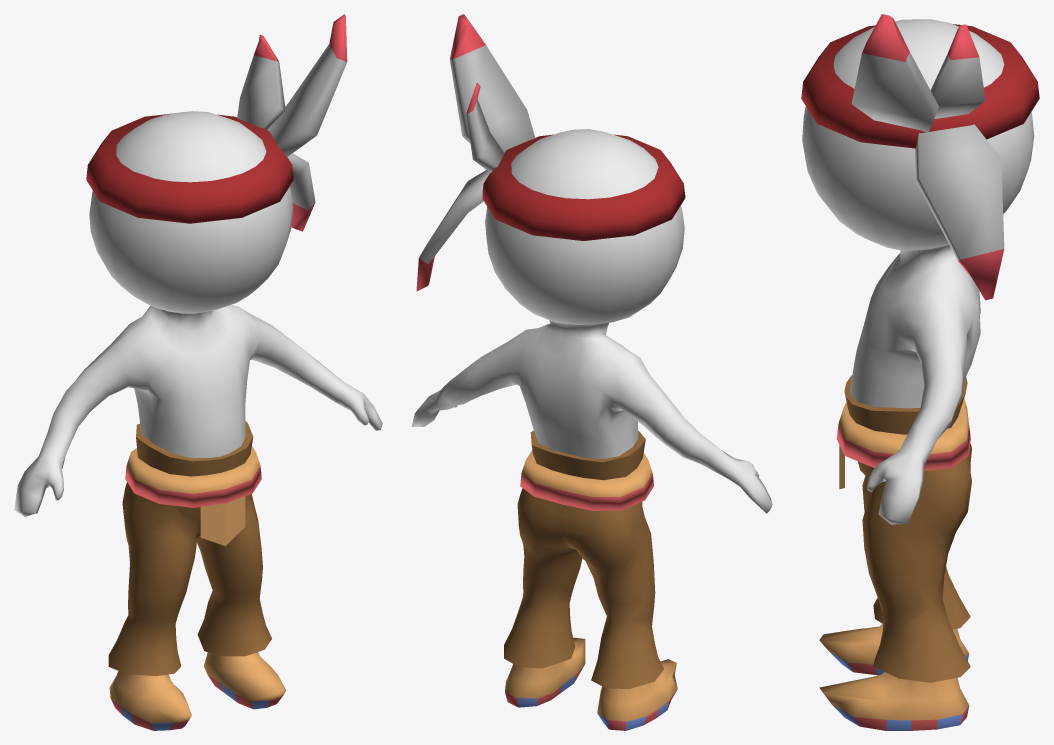
Rendered from indian_var_2.fbx.
3 renders of one model, left to right at view 1: azimuth 30°, elevation 25°; view 2: azimuth 150°, elevation 25°; view 3: azimuth 270°, elevation 25°, orthographic. The views are drawn at different scales.
Parts seen in each view (by area): view 1: Stickman_heads_sphere.002, Pants.v2, helmet.v2, makasin2, belt2; view 2: Stickman_heads_sphere.002, Pants.v2, helmet.v2, makasin2, belt2; view 3: Stickman_heads_sphere.002, helmet.v2, Pants.v2, makasin2, belt2.
Boxes of the visible parts, left/top/right/bottom form: Stickman_heads_sphere.002: left=14, top=111, right=382, bottom=516; Pants.v2: left=108, top=421, right=271, bottom=675; helmet.v2: left=86, top=14, right=347, bottom=231; makasin2: left=109, top=652, right=285, bottom=730; belt2: left=125, top=446, right=261, bottom=545; Stickman_heads_sphere.002: left=411, top=129, right=772, bottom=513; Pants.v2: left=504, top=430, right=663, bottom=688; helmet.v2: left=416, top=14, right=685, bottom=291; makasin2: left=505, top=637, right=677, bottom=730; belt2: left=520, top=450, right=653, bottom=510; Stickman_heads_sphere.002: left=802, top=19, right=1034, bottom=524; helmet.v2: left=801, top=14, right=1039, bottom=300; Pants.v2: left=844, top=375, right=971, bottom=682; makasin2: left=819, top=624, right=969, bottom=730; belt2: left=836, top=398, right=970, bottom=489.
Size of the model in its own units: 123 by 213 by 60.9.
